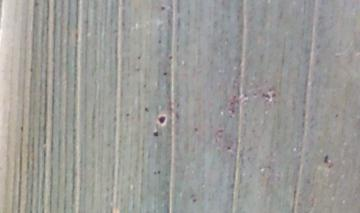tarspot: (157, 115, 167, 124), (322, 153, 329, 164), (143, 105, 151, 114), (152, 129, 159, 138), (262, 93, 271, 100), (159, 4, 166, 12), (162, 69, 168, 77), (168, 54, 174, 61), (136, 53, 142, 60), (125, 111, 131, 118), (194, 126, 200, 133), (226, 145, 233, 151), (271, 91, 277, 98), (156, 169, 162, 175), (157, 38, 162, 45), (192, 197, 197, 203)
